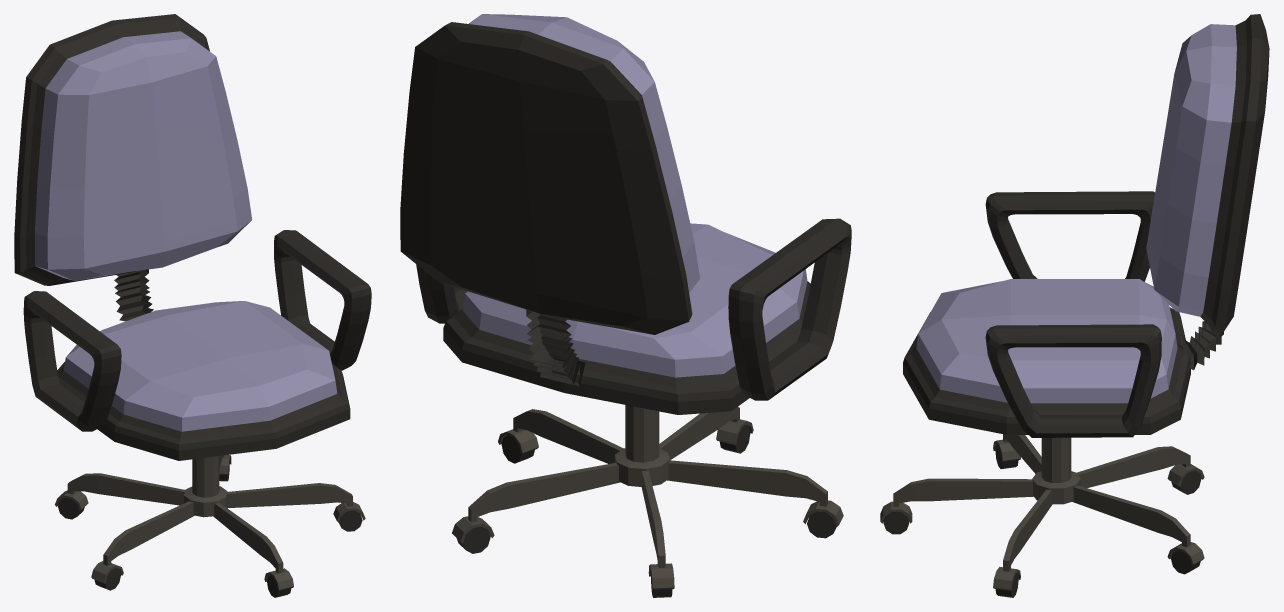
Rendered from office-chair.glb.
3 renders of one model, left to right at view 1: azimuth 30°, elevation 25°; view 2: azimuth 150°, elevation 25°; view 3: azimuth 270°, elevation 25°, orthographic. The views are drawn at different scales.
Visible parts, largest first — view 1: office-chair; view 2: office-chair; view 3: office-chair.
Part boxes in pixels (x1=…): office-chair: x1=14, y1=14, x2=371, y2=597; office-chair: x1=400, y1=14, x2=851, y2=597; office-chair: x1=880, y1=14, x2=1269, y2=597.
Bounding box in the file's own units: 0.7168 × 1.12 × 0.8018.
